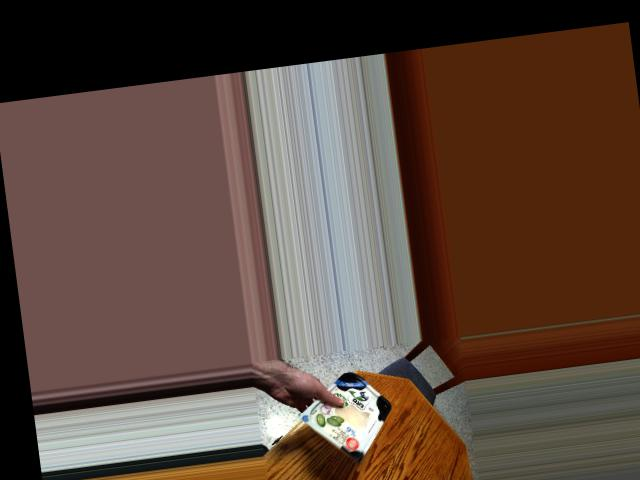cheese: (310, 368, 388, 455)
